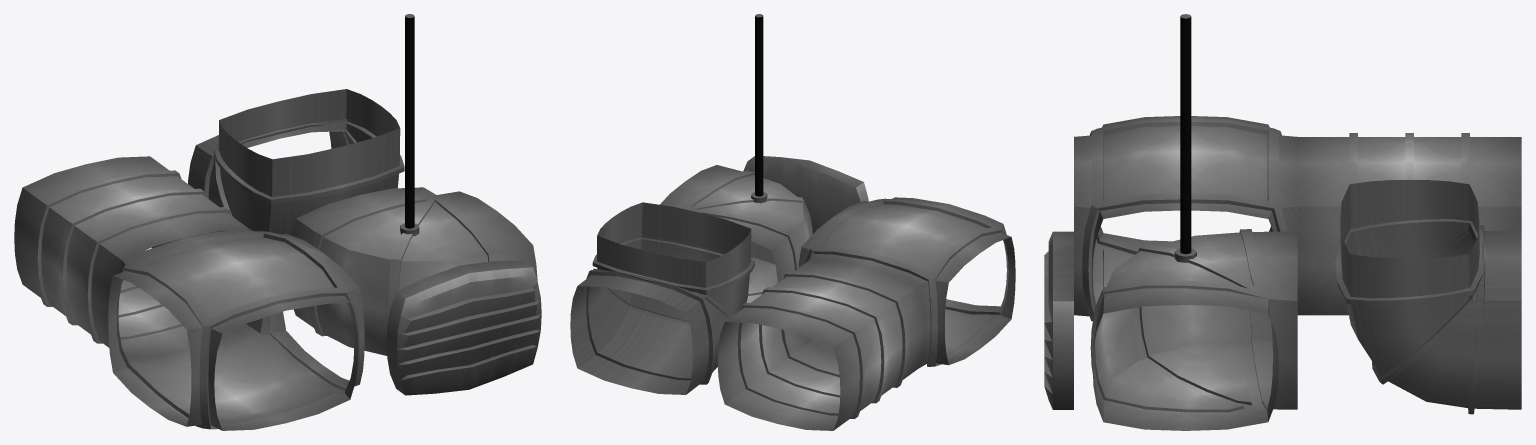
Rendered from Vents.glb.
3 views of the same model, side by side, from view 1: azimuth 30°, elevation 25°; view 2: azimuth 150°, elevation 25°; view 3: azimuth 270°, elevation 25° (orthographic). The views are drawn at different scales.
Visible parts, largest first — view 1: VentCross, VentStraight, VentUp, VentCorner, VentOutlet, Cable; view 2: VentStraight, VentUp, VentCross, VentCorner, VentOutlet, Cable; view 3: VentCorner, VentUp, VentCross, VentStraight, VentOutlet, Cable, CableBottom.
Boxes of the visible parts, x1=… form: VentCross: x1=108, y1=229, x2=364, y2=430; VentStraight: x1=14, y1=156, x2=251, y2=357; VentUp: x1=188, y1=89, x2=404, y2=234; VentCorner: x1=291, y1=187, x2=537, y2=355; VentOutlet: x1=386, y1=260, x2=541, y2=395; Cable: x1=405, y1=14, x2=414, y2=199; VentStraight: x1=717, y1=259, x2=925, y2=430; VentUp: x1=570, y1=202, x2=754, y2=394; VentCross: x1=798, y1=197, x2=1015, y2=368; VentCorner: x1=660, y1=165, x2=812, y2=302; VentOutlet: x1=743, y1=156, x2=868, y2=233; Cable: x1=755, y1=14, x2=763, y2=171; VentCorner: x1=1090, y1=229, x2=1297, y2=430; VentUp: x1=1335, y1=179, x2=1521, y2=414; VentCross: x1=1074, y1=116, x2=1297, y2=321; VentStraight: x1=1297, y1=133, x2=1521, y2=318; VentOutlet: x1=1044, y1=231, x2=1073, y2=409; Cable: x1=1180, y1=14, x2=1191, y2=221; CableBottom: x1=1174, y1=219, x2=1196, y2=262.
Bounding box in the file's own units: 4 × 3.76 × 4.26.
Materials: 3 (2 with a texture image).
